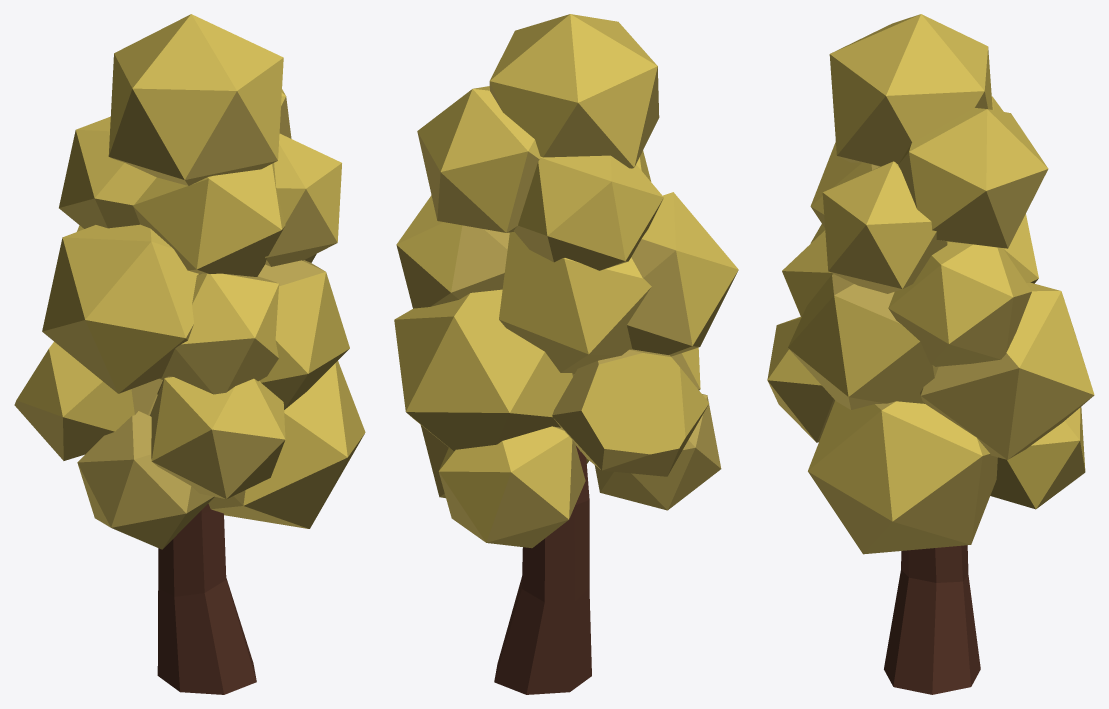
The model's file is TreeFir_03.glb.
The picture shows the model from 3 angles, left to right: view 1: azimuth 30°, elevation 25°; view 2: azimuth 150°, elevation 25°; view 3: azimuth 270°, elevation 25°; orthographic projection. The views are drawn at different scales.
Parts seen in each view (by area): view 1: TreeFir_03; view 2: TreeFir_03; view 3: TreeFir_03.
Part boxes in pixels (bbox=[...]): TreeFir_03: bbox=[14, 14, 365, 694]; TreeFir_03: bbox=[394, 14, 738, 694]; TreeFir_03: bbox=[767, 14, 1094, 694].
Size of what is drawn, in the model's own units: 2.44 by 5.11 by 2.34.
Materials: 1 (1 with a texture image).
